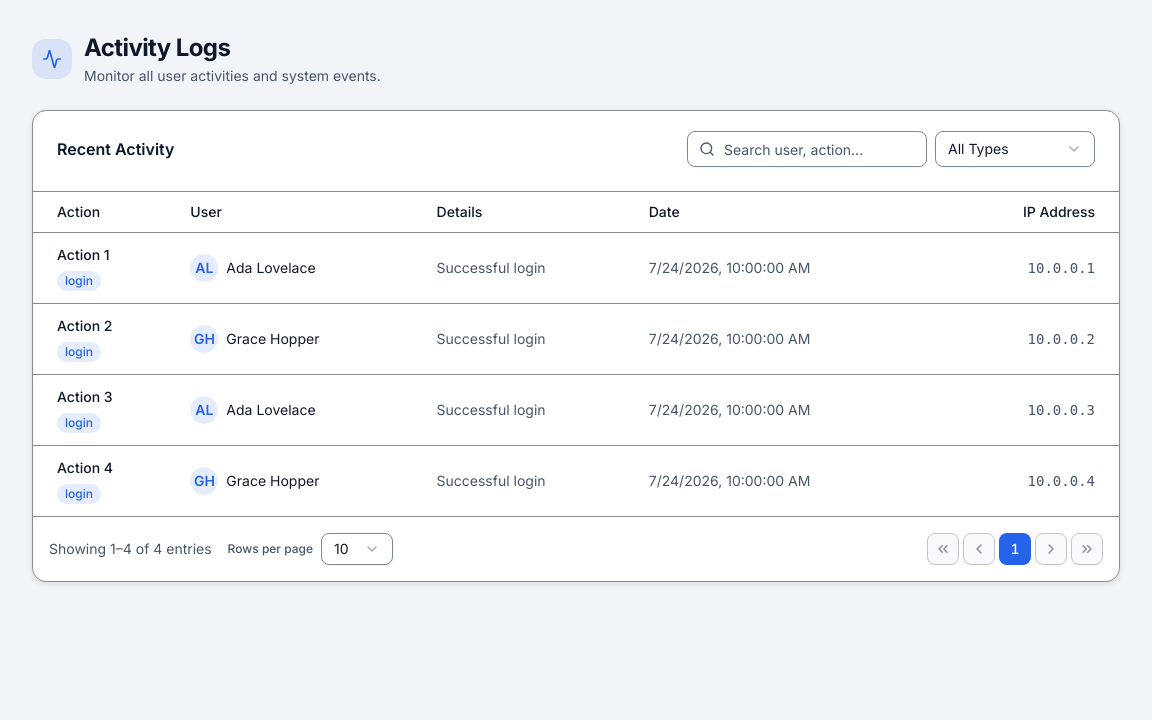
<ActivityLogClient> › says an empty result is empty because of the filter, and hides the paginator
Click the search field named "Search activity logs" at (807,149), box [687,131,927,167]
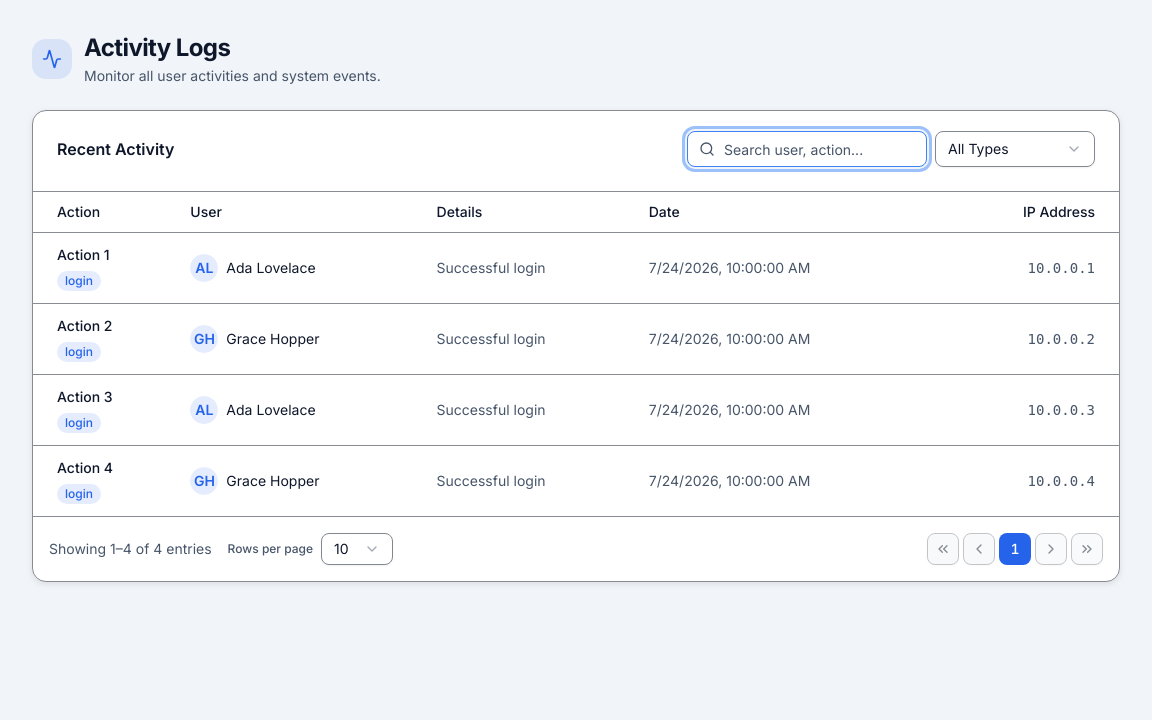
Type keys "nothing matches this"
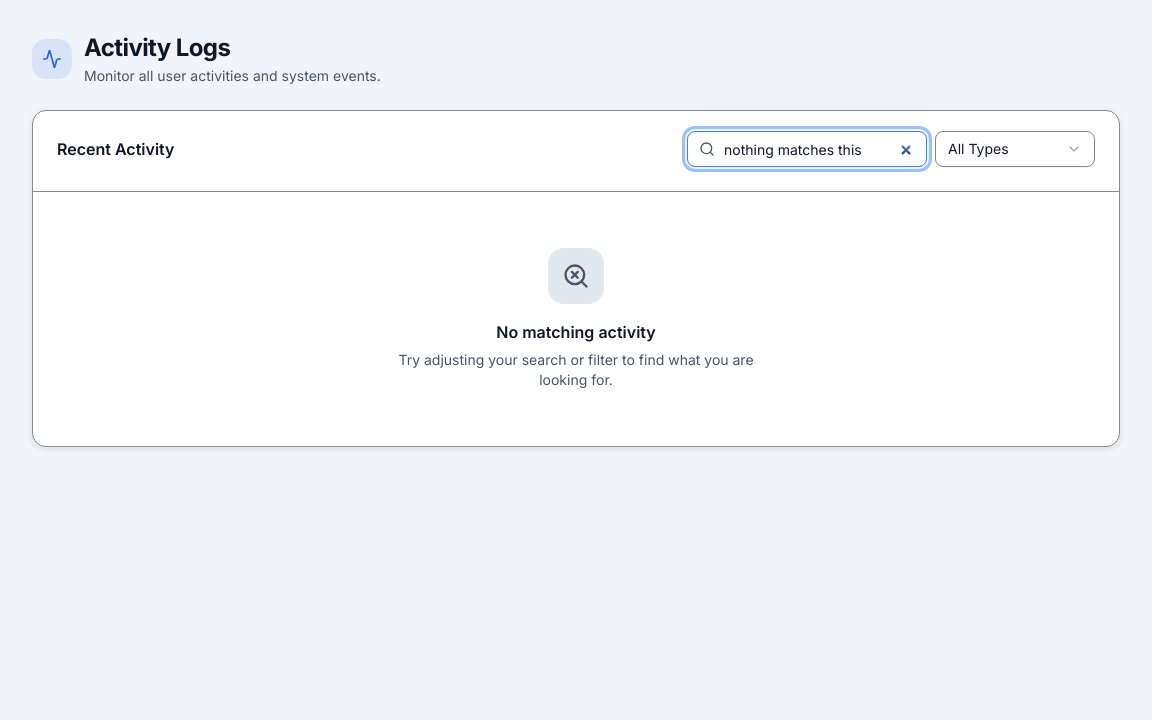
Result: the heading "No matching activity" is shown at [496,320,656,344]
